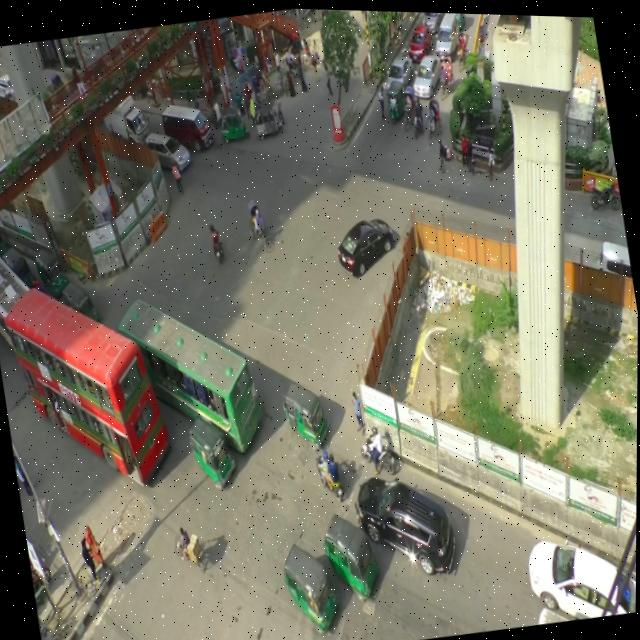cng: (274, 536, 347, 639), (317, 498, 385, 607), (277, 369, 333, 450), (186, 411, 239, 495), (250, 97, 287, 143), (216, 101, 249, 143), (384, 72, 408, 121)
rikshaw: (241, 191, 277, 262), (422, 91, 447, 142), (450, 21, 473, 73), (397, 84, 422, 126), (436, 48, 458, 93), (298, 29, 324, 67)
